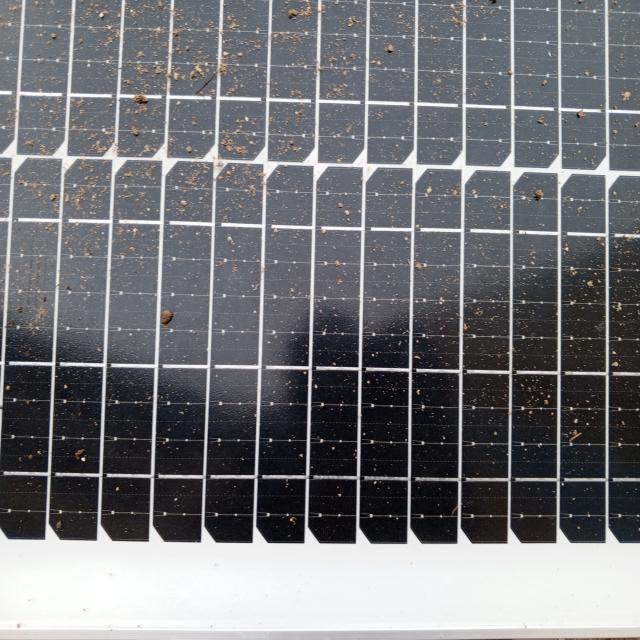Surface Contaminant: (5, 68, 634, 548)
